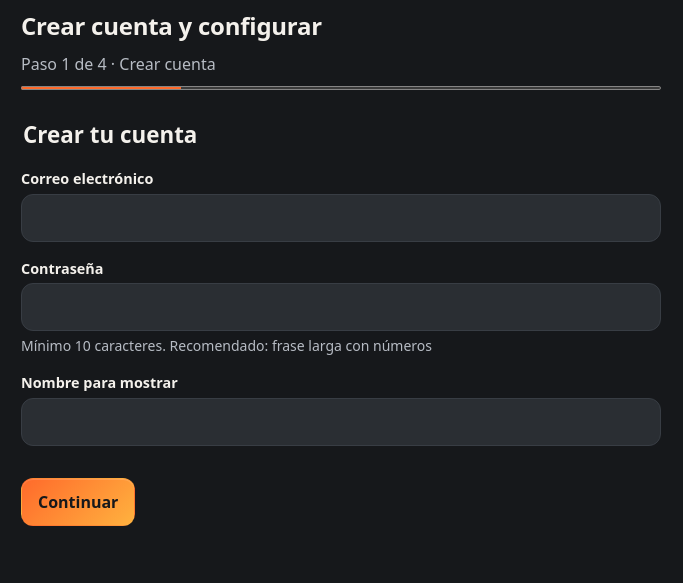
Test: OnboardingScreen › muestra el error de correo repetido (409)
The image size is (683, 583).
Type "lucia@example.org" into the field labelled "Correo electrónico" at (341, 218), box [21,194,661,242]
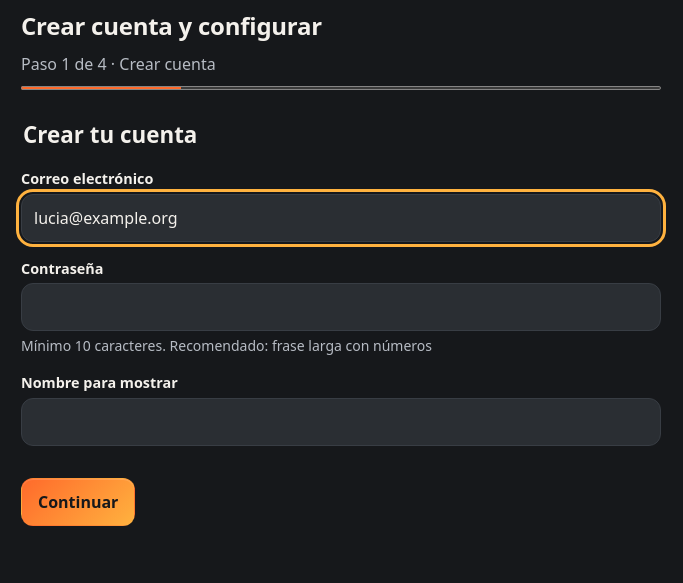
Type "brasa-y-yunque-2026" into the password field labelled "Contraseña" at (341, 307), box [21,283,661,331]
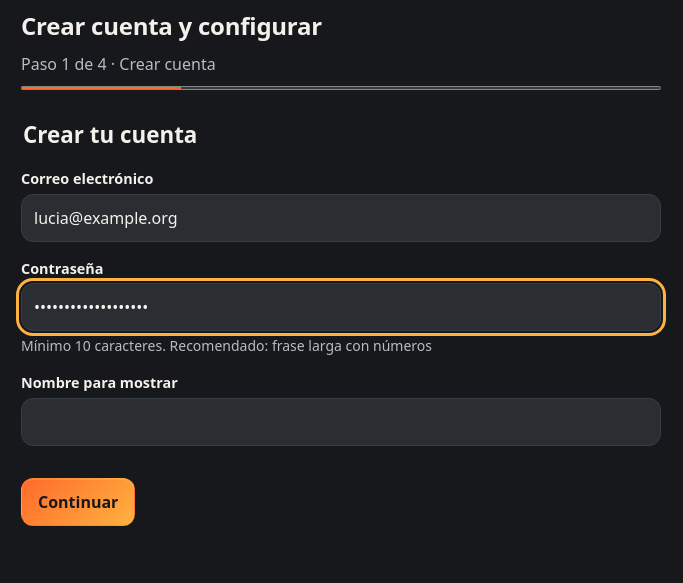
Type "Lucía" into the field labelled "Nombre para mostrar" at (341, 422), box [21,398,661,446]
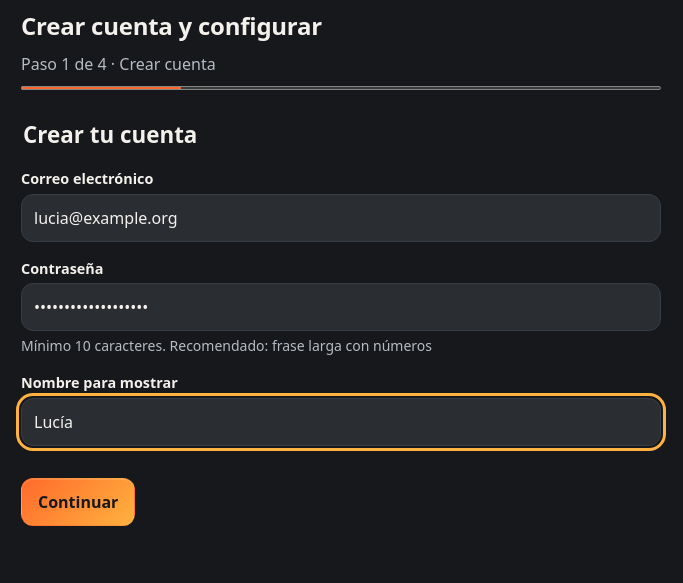
Click the button "Continuar" at (78, 502), box [21,478,135,526]
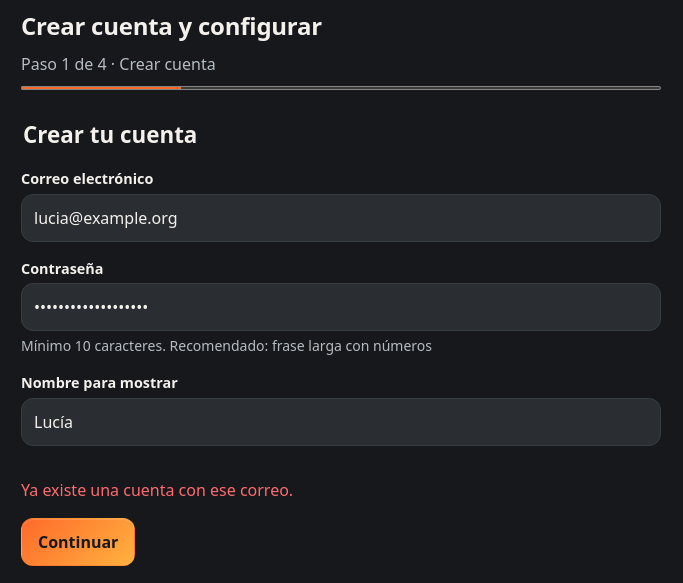
Now the text "Ya existe una cuenta con ese correo." is shown, box [21,479,293,501]
